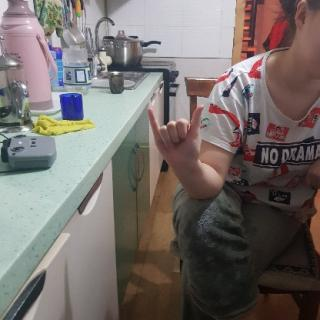YA: (145, 100, 207, 168)
